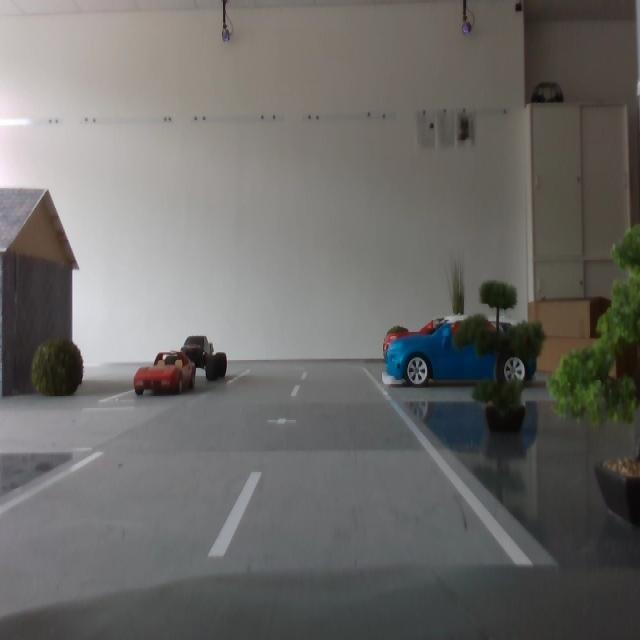car: (384, 313, 538, 388), (386, 314, 536, 385), (134, 350, 196, 396), (176, 333, 229, 385)
potted plant: (547, 221, 640, 524), (453, 278, 548, 431), (30, 338, 86, 403), (445, 248, 466, 355), (384, 326, 413, 365)
